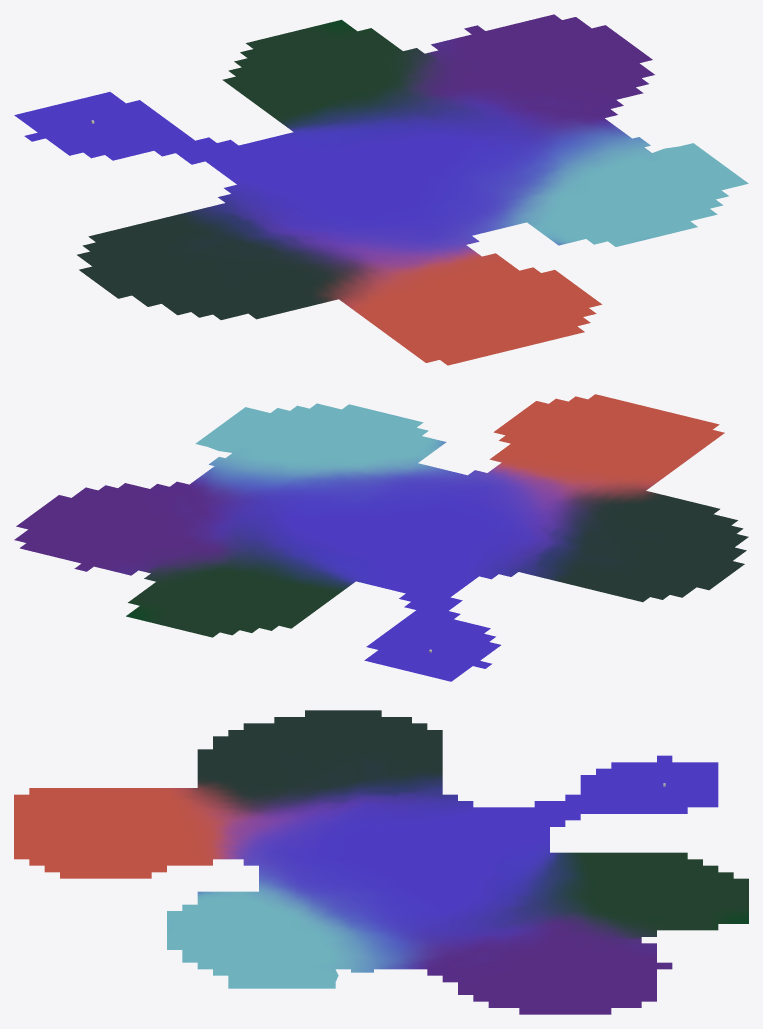
File: Water New 3.fbx
The picture shows the model from 3 angles, top to bottom: view 1: azimuth 30°, elevation 25°; view 2: azimuth 150°, elevation 25°; view 3: azimuth 270°, elevation 25°; orthographic projection. The views are drawn at different scales.
Visible parts, largest first — view 1: Water_New; view 2: Water_New; view 3: Water_New.
Part boxes in pixels (<box>): Water_New: <box>14,14,748,365</box>; Water_New: <box>14,394,748,681</box>; Water_New: <box>14,710,748,1014</box>.
Size of the model in its own units: 60002 by 200 by 61279.
